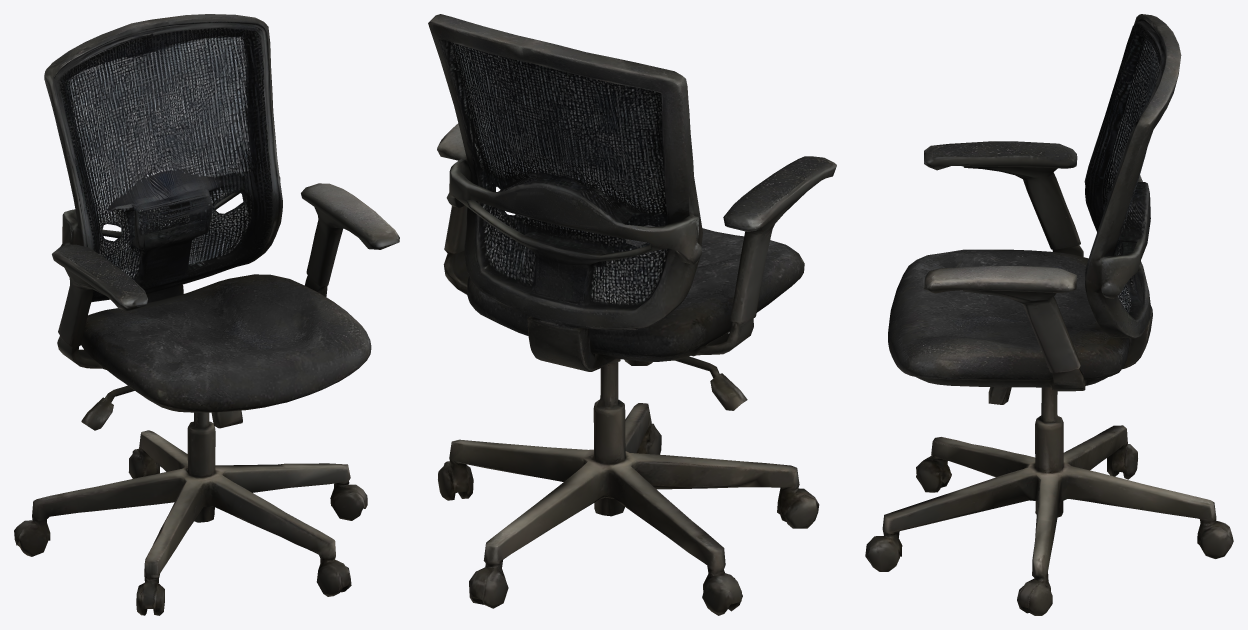
The model's file is office_chair.fbx.
3 renders of one model, left to right at view 1: azimuth 30°, elevation 25°; view 2: azimuth 150°, elevation 25°; view 3: azimuth 270°, elevation 25°, orthographic. The views are drawn at different scales.
Parts seen in each view (by area): view 1: office_chair; view 2: office_chair; view 3: office_chair.
Part boxes in pixels (bbox=[...]): office_chair: bbox=[14, 14, 399, 615]; office_chair: bbox=[428, 14, 836, 615]; office_chair: bbox=[865, 14, 1233, 615].
Size of the model in its own units: 0.6672 by 1 by 0.6816.
1 material, 1 textured.
